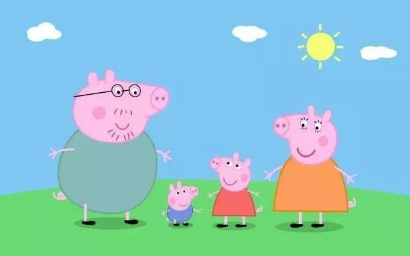Peppa: (209, 152, 261, 230)
